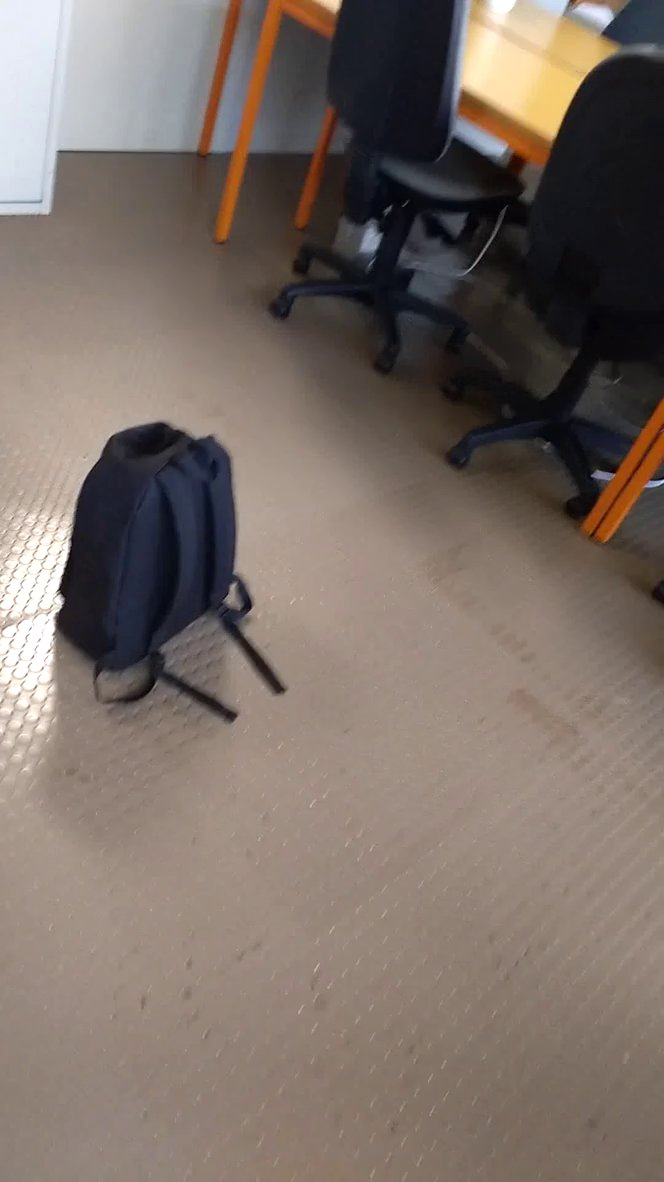bag: (41, 413, 300, 739)
chair: (262, 1, 527, 389), (520, 40, 664, 501)
